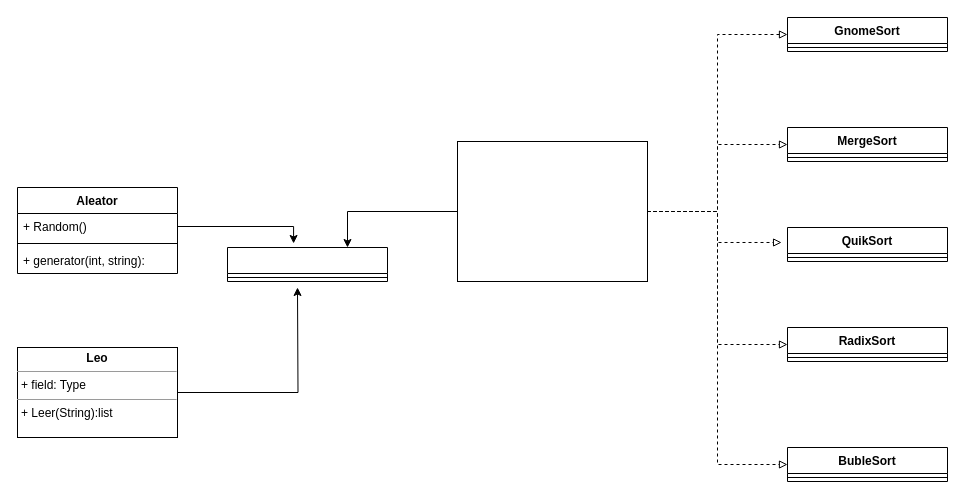
The diagram is 965 pixels wide and 499 high, and some of its shapes have lost their labels. The centre of each missing label's shape, as x and y in pixels:
"<<Interface>> Sort + Sort(List): List" goes at (552,211).
"Main" goes at (307,264).
